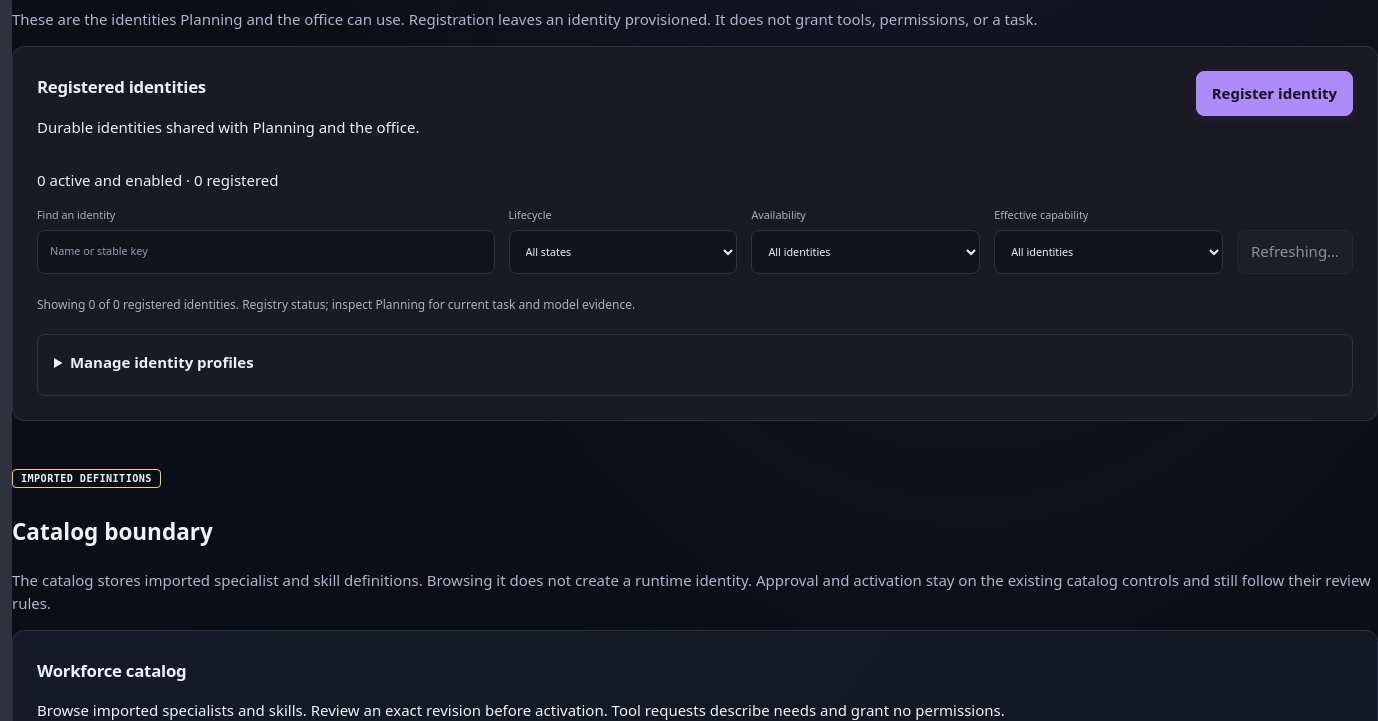
Test: durable workforce › failed registration retains the exact payload and exposes retry
(page scrolled)
Click the heading "Manage identity profiles".
click(162, 362)  # box [70,352,254,372]
(page scrolled)
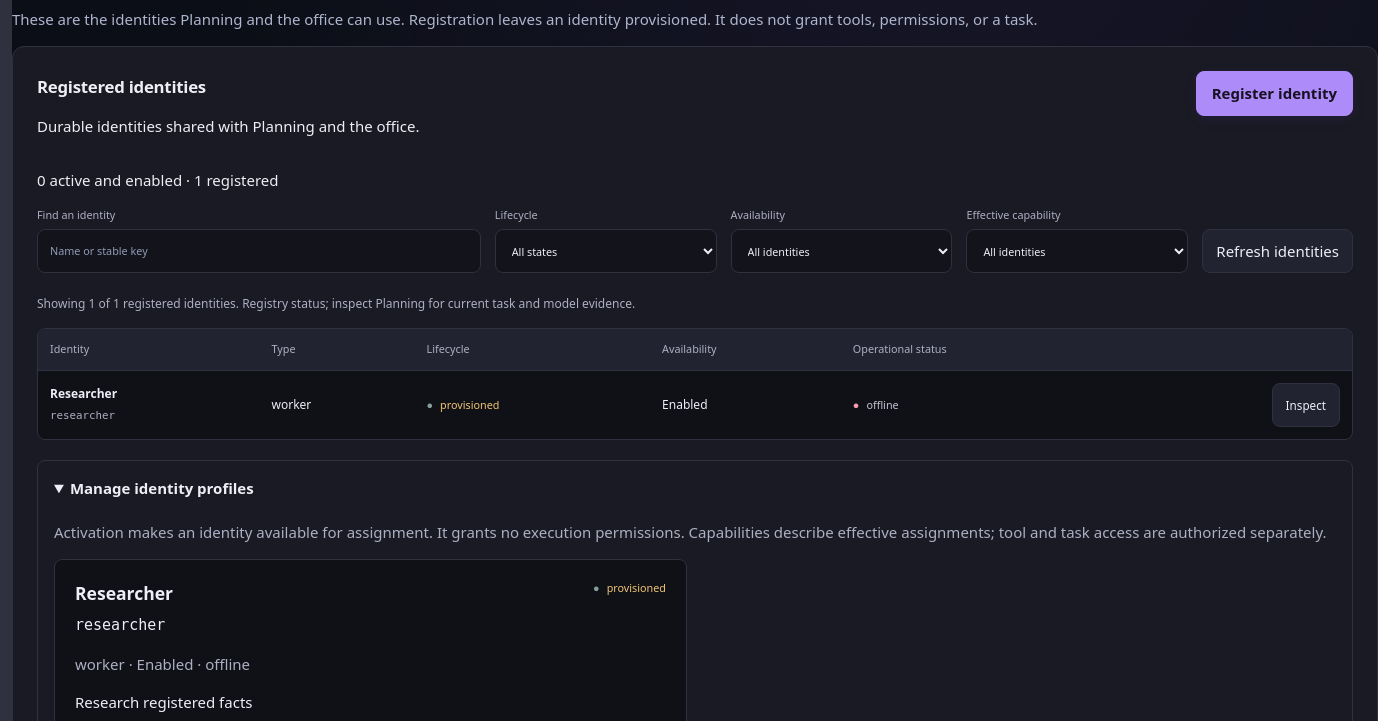
Click the button "Register identity".
click(1274, 94)  # box [1196,71,1353,116]
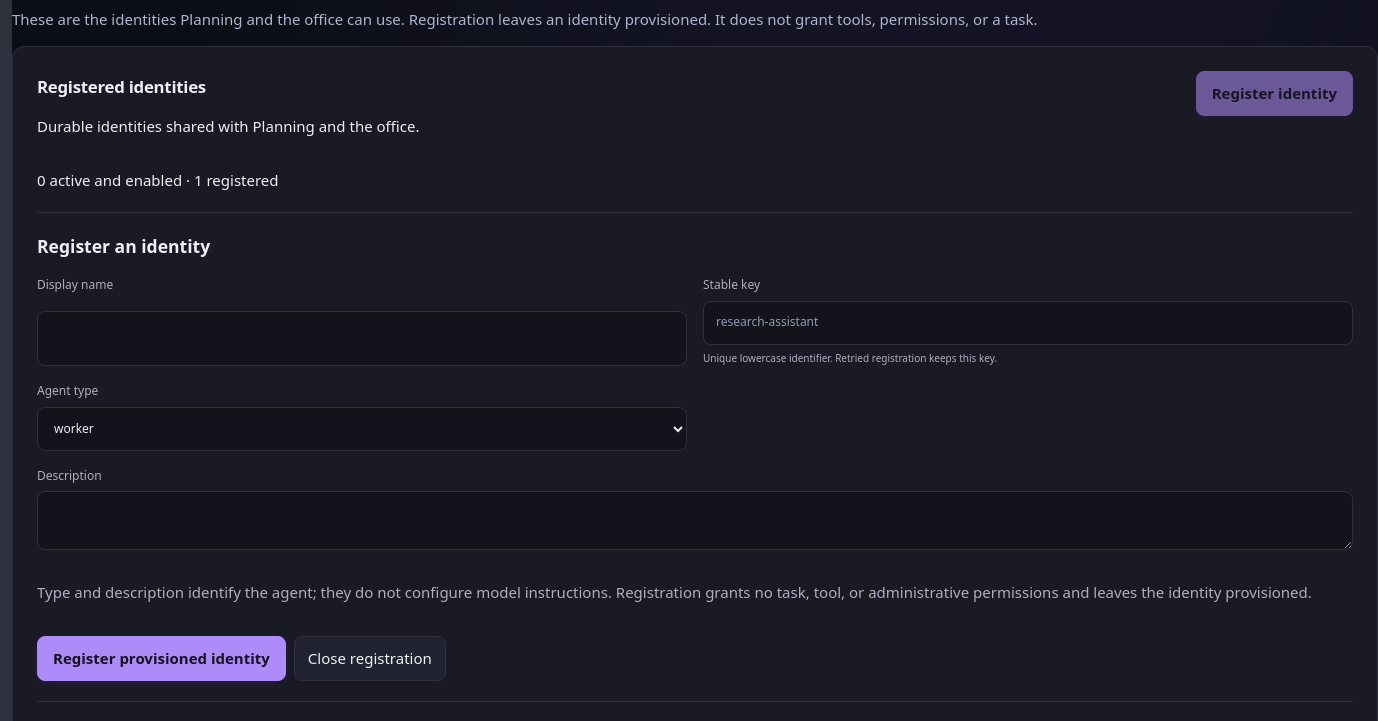
Type "Analyst" into the field labelled "Display name".
click(362, 339); type("Analyst")  # box [37,311,687,366]
Type "analyst" into the field labelled "Stable key".
click(1028, 322); type("analyst")  # box [703,300,1353,344]
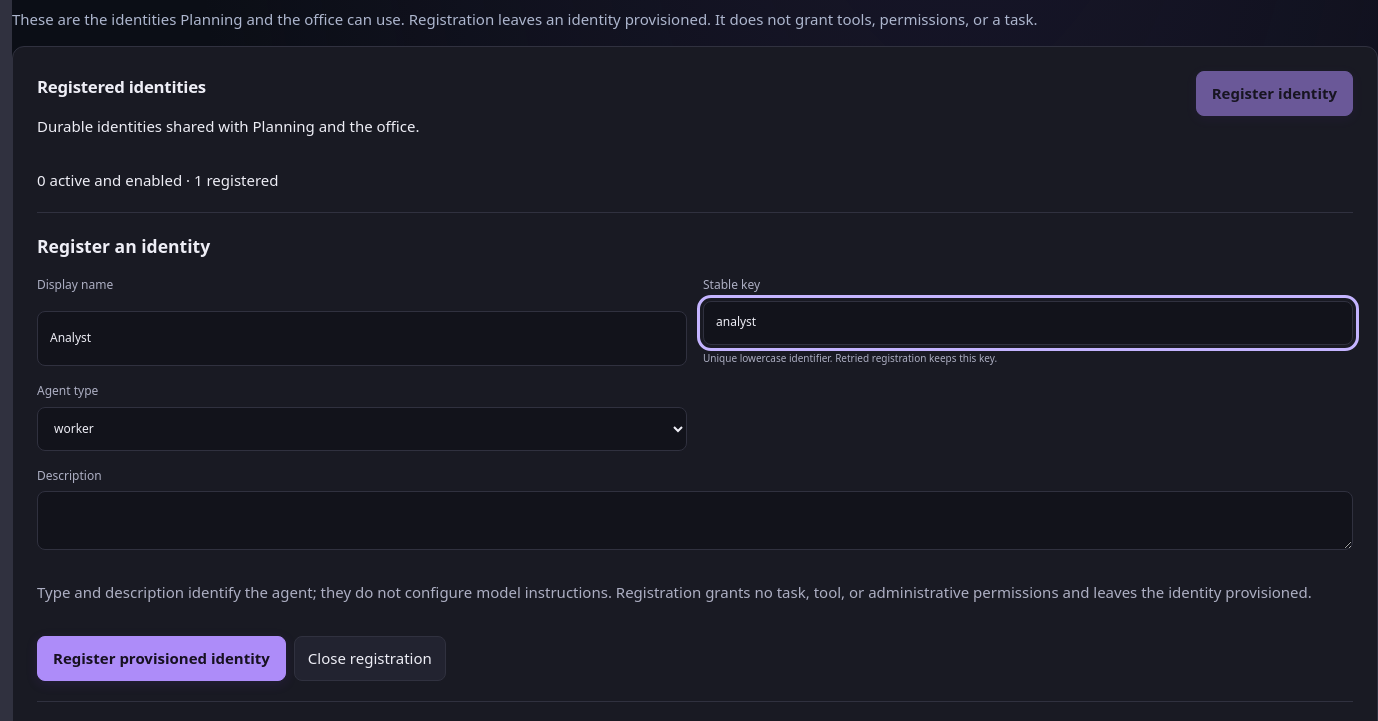
Type "Bounded research" into the text box labelled "Description".
click(695, 521); type("Bounded research")  # box [37,491,1353,550]
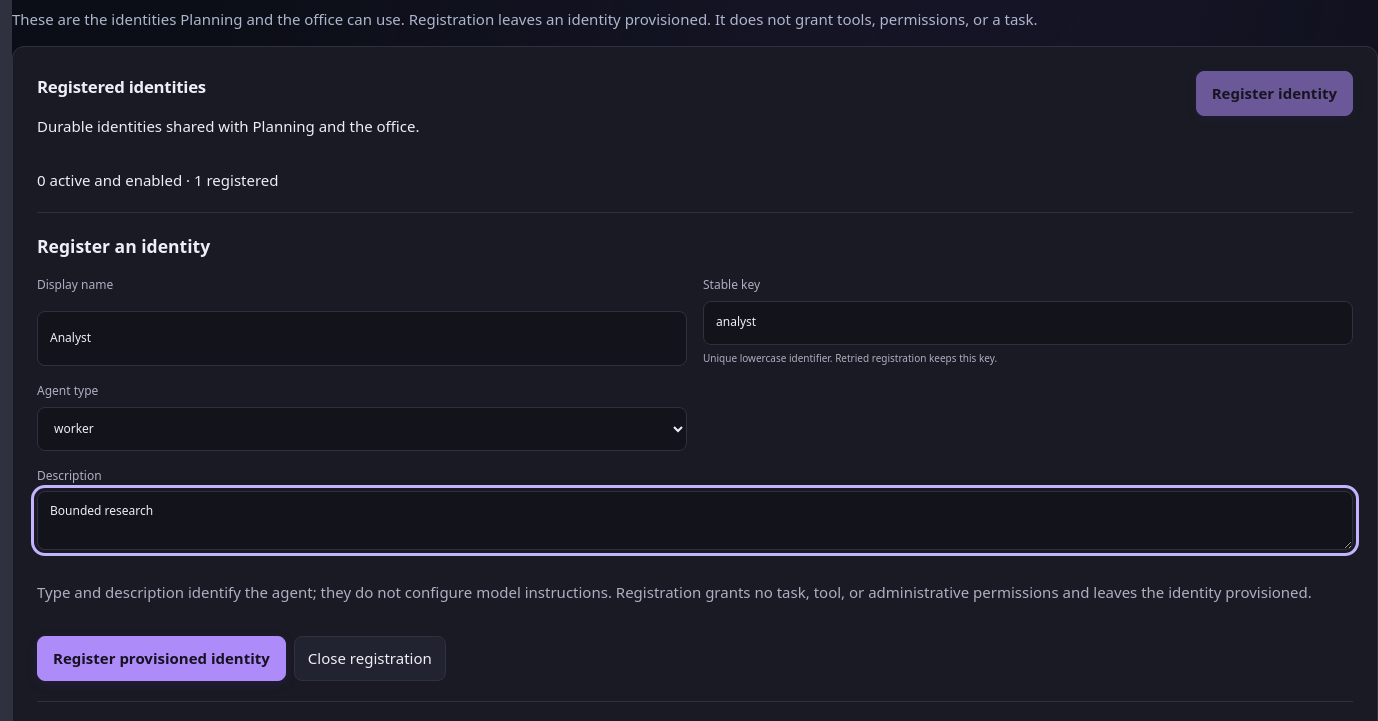
Click the button "Register provisioned identity".
click(161, 658)  # box [37,636,286,681]
(page scrolled)
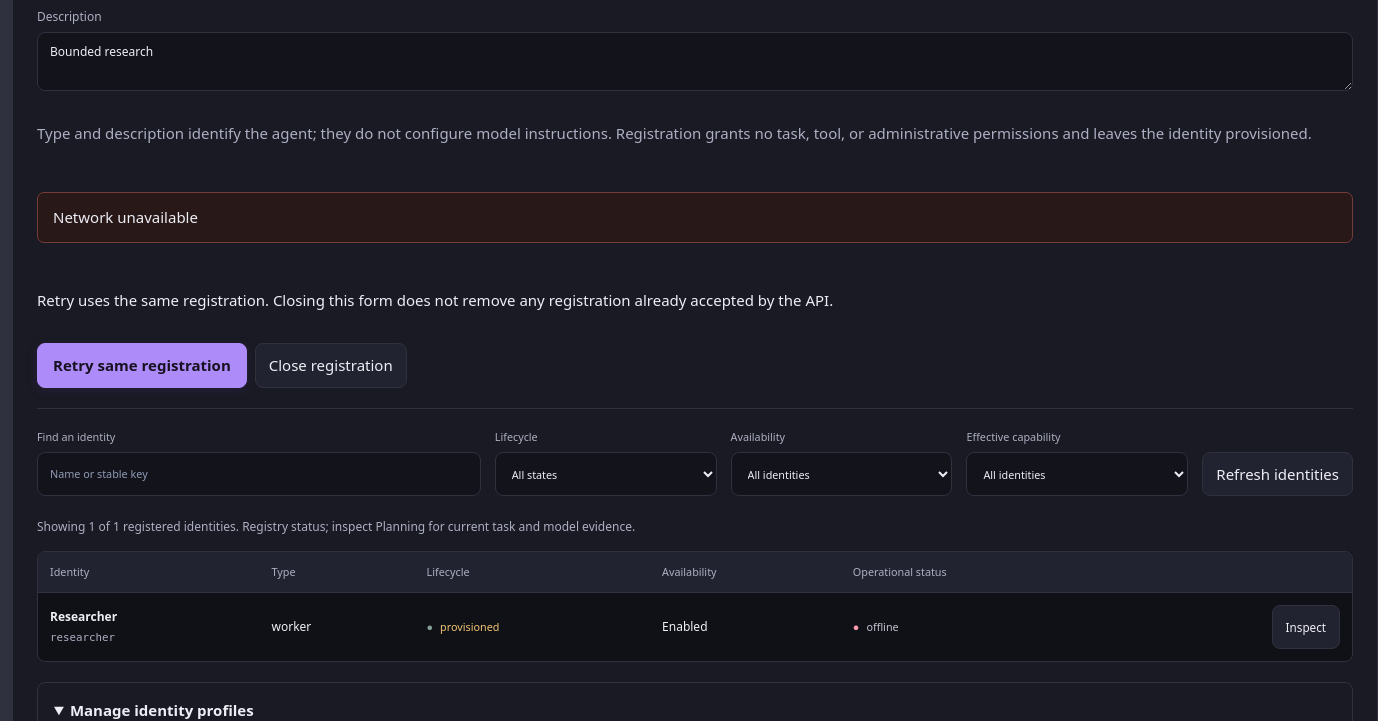
Now the message reads "Network unavailable", box [53,207,198,227]
Click the button "Retry same registration".
click(142, 366)  # box [37,343,247,388]
(page scrolled)
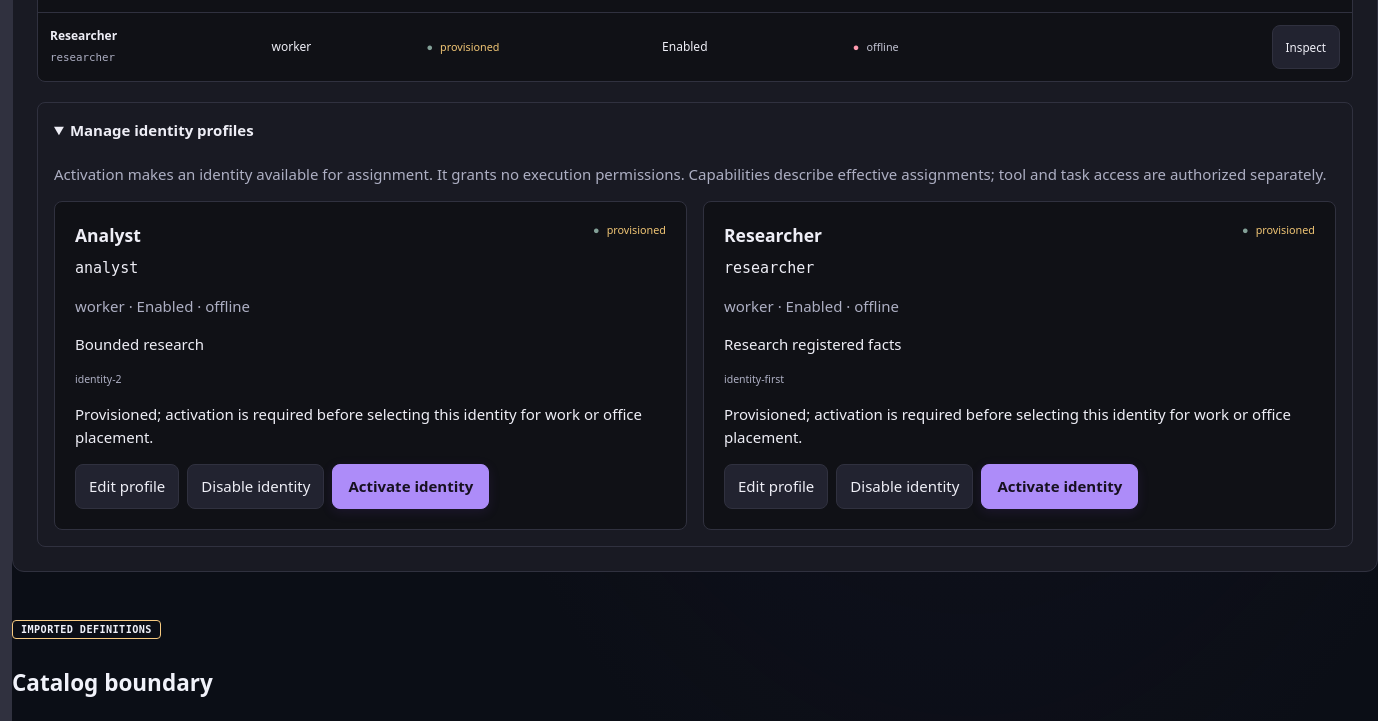
Now the element named "Identity Analyst" is shown, box [54,201,687,530]
